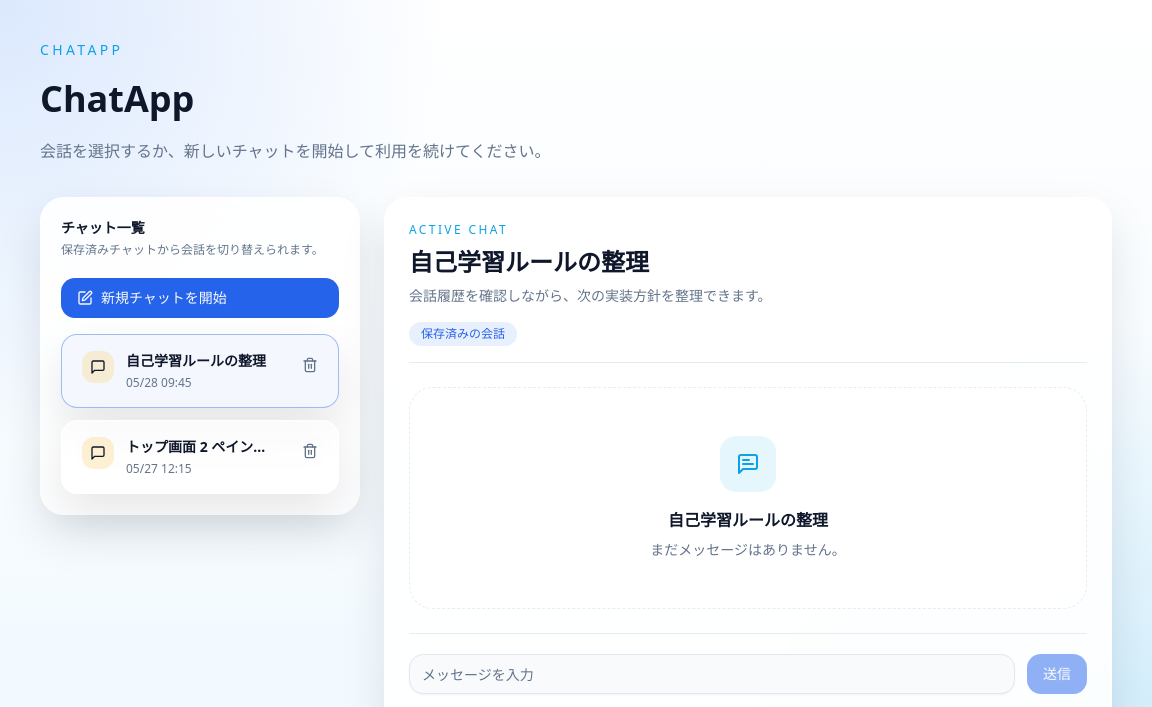
it: TopRoute workspace behavior › loads chat detail from the API when selecting another chat
The width and height of the screenshot is (1152, 707).
Check: the heading "自己学習ルールの整理" is shown, box x1=409 y1=245 x2=649 y2=278
Step 1. Click the text "トップ画面 2 ペイン構成" → (198, 447), box x1=126 y1=437 x2=270 y2=457
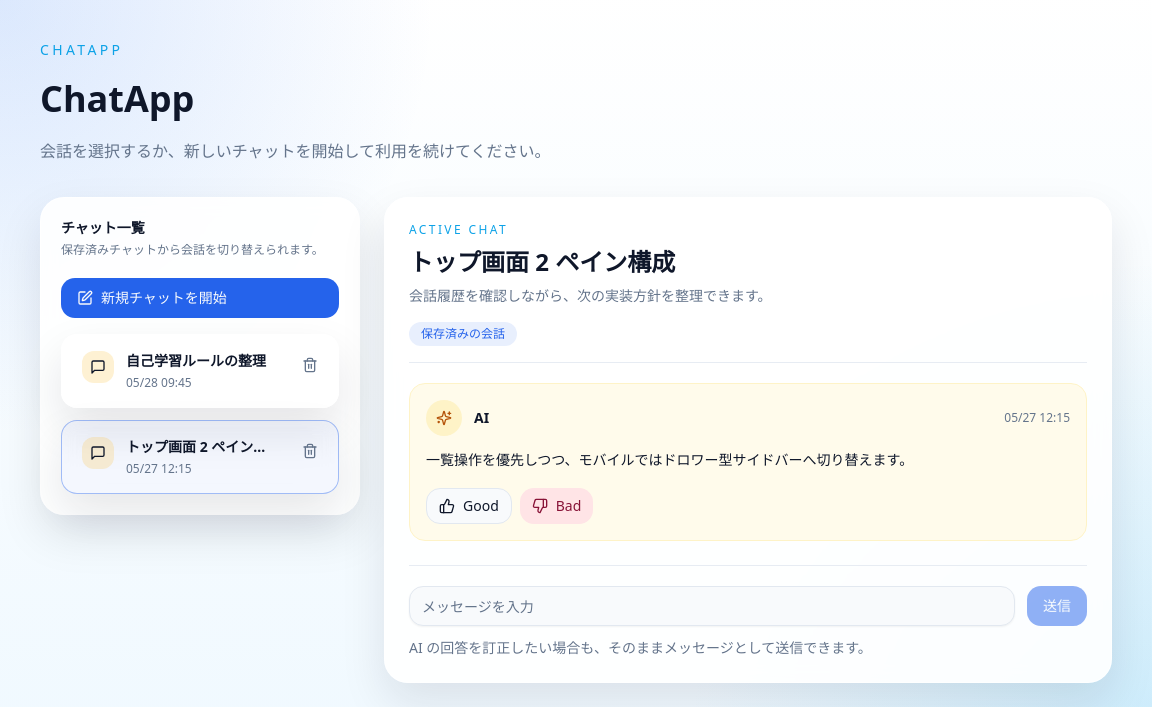
Check: the heading "トップ画面 2 ペイン構成" is shown, box x1=409 y1=245 x2=675 y2=278
Check: the text "一覧操作を優先しつつ、モバイルではドロワー型サイドバーへ切り替えます。" is shown, box x1=426 y1=450 x2=913 y2=469
